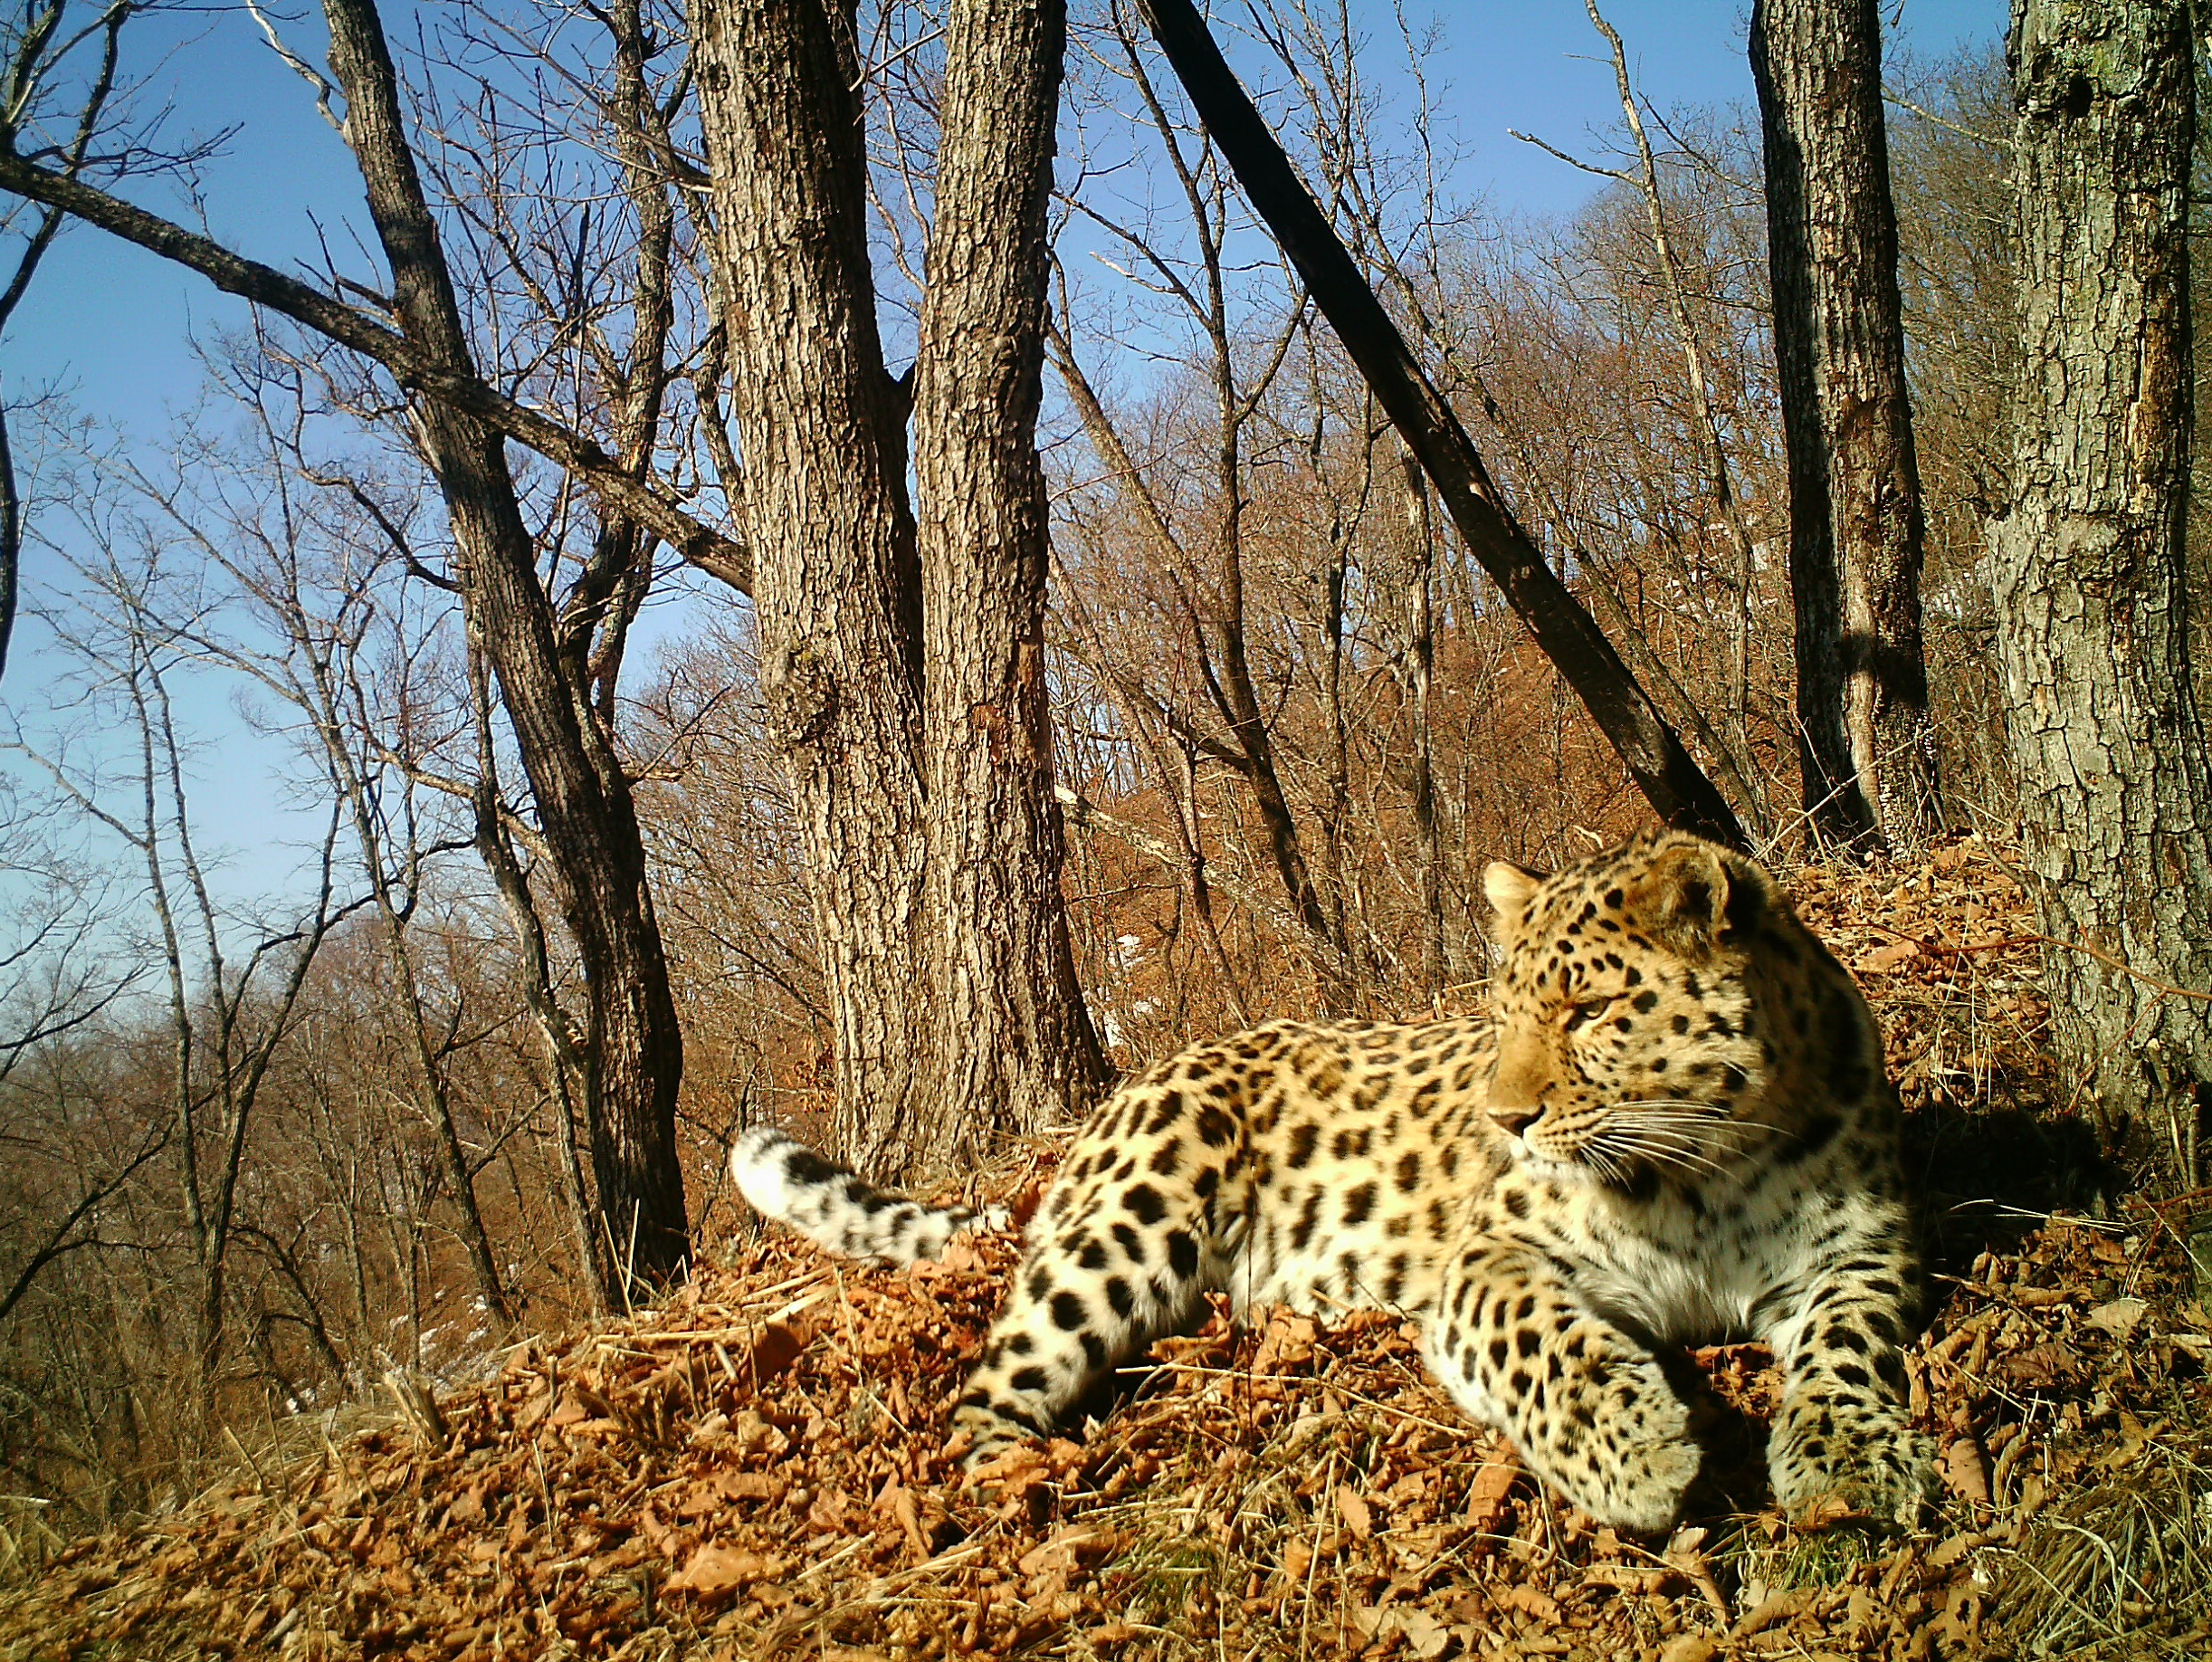amur_leopard: (918, 761, 2036, 1545)
